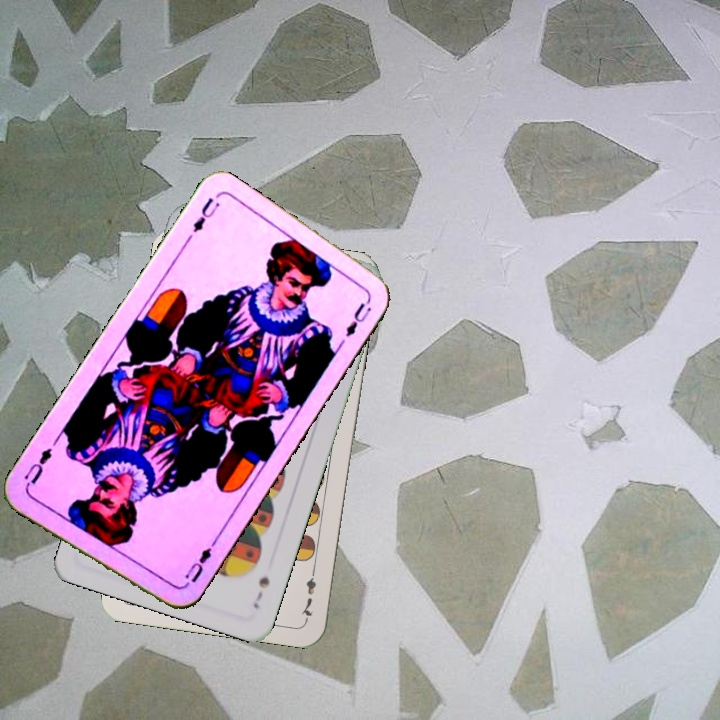E7: (297, 563, 319, 622)
EU: (177, 539, 217, 591), (188, 193, 223, 235)
S7: (249, 573, 273, 611)
